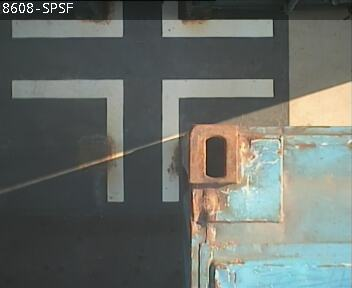groundmarker_1: (10, 79, 272, 202)
